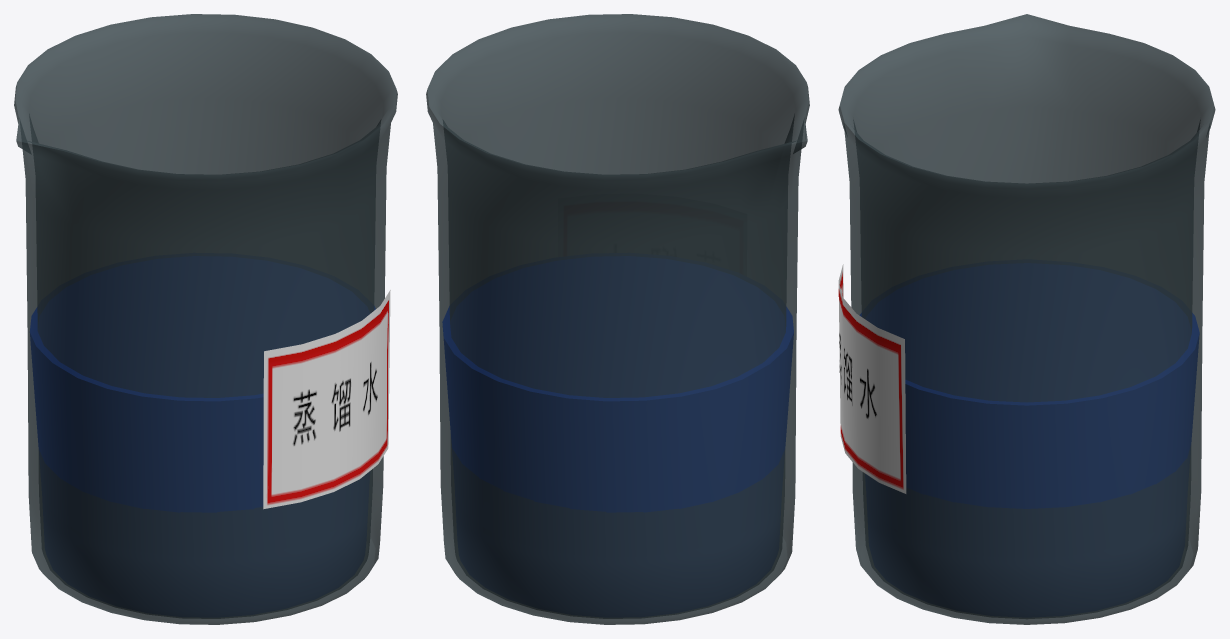
The model's file is SM_蒸馏水烧杯.FBX.
3 renders of one model, left to right at view 1: azimuth 30°, elevation 25°; view 2: azimuth 150°, elevation 25°; view 3: azimuth 270°, elevation 25°, orthographic.
Parts seen in each view (by area): view 1: SM_蒸馏水烧杯; view 2: SM_蒸馏水烧杯; view 3: SM_蒸馏水烧杯.
Boxes of the visible parts, bbox=[...] form: SM_蒸馏水烧杯: bbox=[14, 14, 397, 624]; SM_蒸馏水烧杯: bbox=[426, 14, 809, 624]; SM_蒸馏水烧杯: bbox=[838, 14, 1215, 624].
Bounding box in the file's own units: 61.7 × 76 × 57.68.
